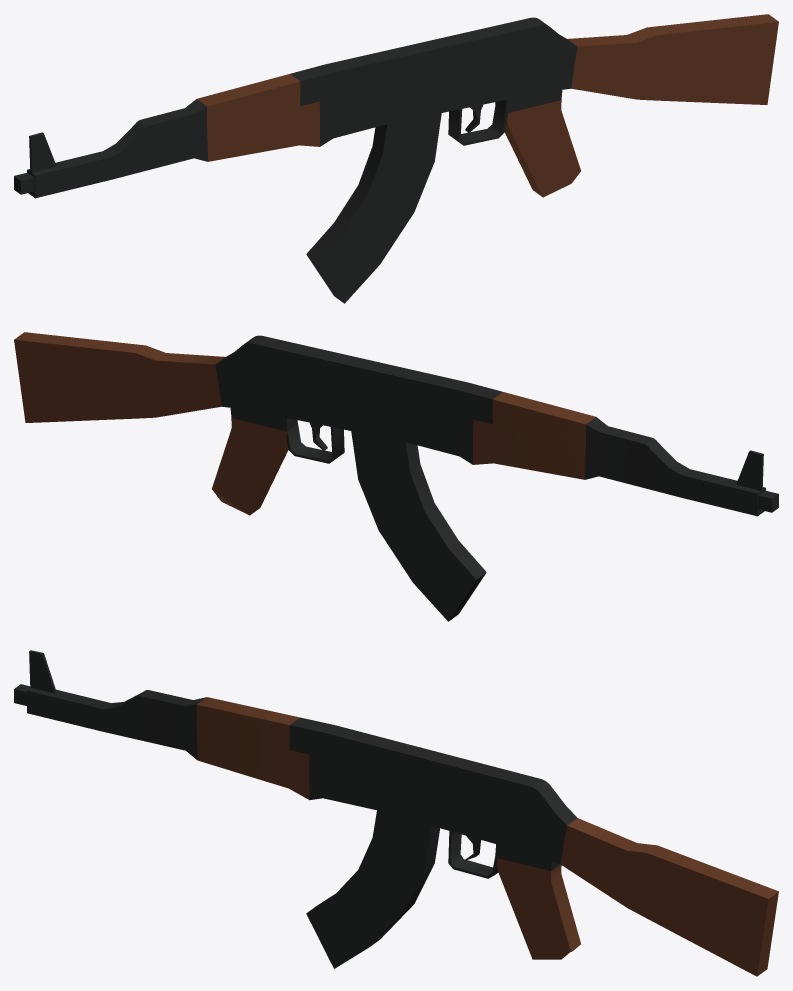
3 renders of one model, top to bottom at view 1: azimuth 30°, elevation 25°; view 2: azimuth 150°, elevation 25°; view 3: azimuth 330°, elevation 25°, orthographic.
Visible parts, largest first — view 1: Ak-47, Magasine; view 2: Ak-47, Magasine; view 3: Ak-47, Magasine.
Part boxes in pixels (box(x1,y1,x2,y2)): Ak-47: box(14, 14, 778, 198); Magasine: box(306, 113, 441, 303); Ak-47: box(14, 332, 778, 516); Magasine: box(351, 431, 486, 621); Ak-47: box(14, 650, 778, 976); Magasine: box(306, 810, 439, 968).
Size of the model in its own units: 471 by 142 by 11.47.
